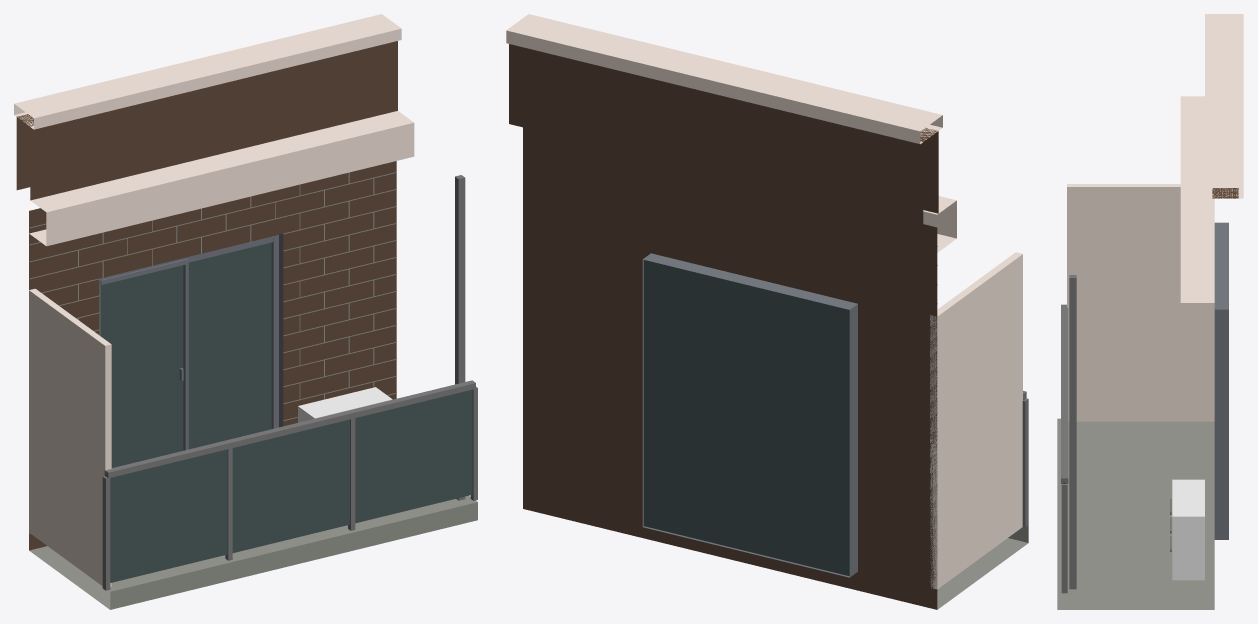
The model's file is top-w1_close.fbx.
3 renders of one model, left to right at view 1: azimuth 30°, elevation 25°; view 2: azimuth 150°, elevation 25°; view 3: azimuth 270°, elevation 25°, orthographic. The views are drawn at different scales.
Visible parts, largest first — view 1: a2001/800/top-w1_close; view 2: a2001/800/top-w1_close; view 3: a2001/800/top-w1_close.
Part boxes in pixels (x1,y1,x2,y2): a2001/800/top-w1_close: (14, 14, 477, 609); a2001/800/top-w1_close: (506, 14, 1028, 609); a2001/800/top-w1_close: (1057, 14, 1243, 609).
Bounding box in the file's own units: 3.44 × 3.85 × 1.54.
